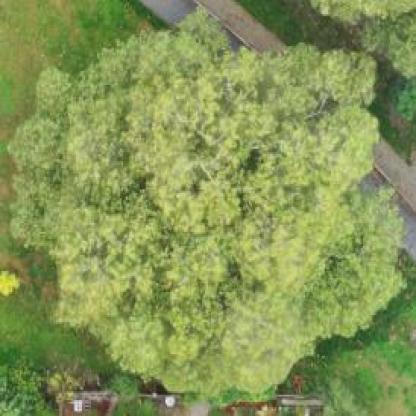Deciduous Tree: (16, 18, 414, 391)
